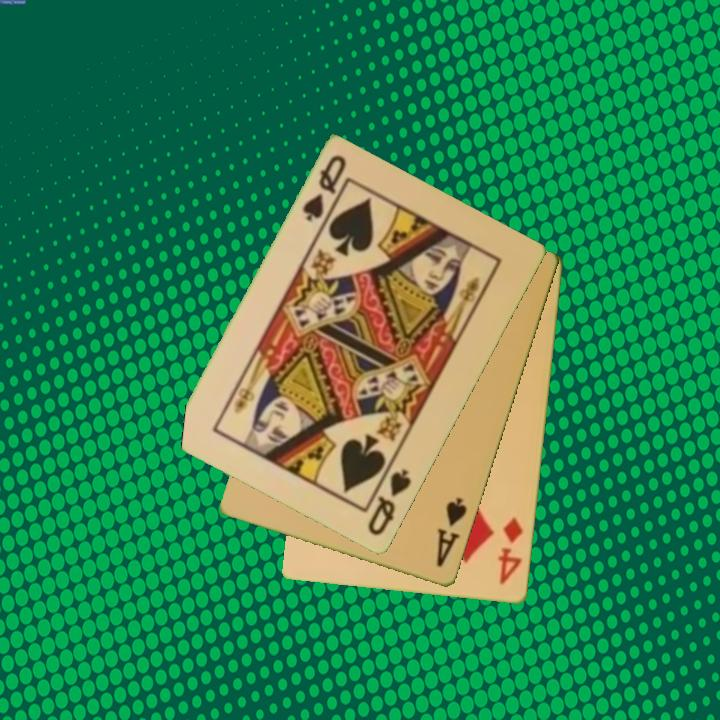4d: (495, 514, 526, 588)
As: (433, 494, 471, 571)
Qs: (298, 151, 350, 225), (364, 465, 415, 539)
